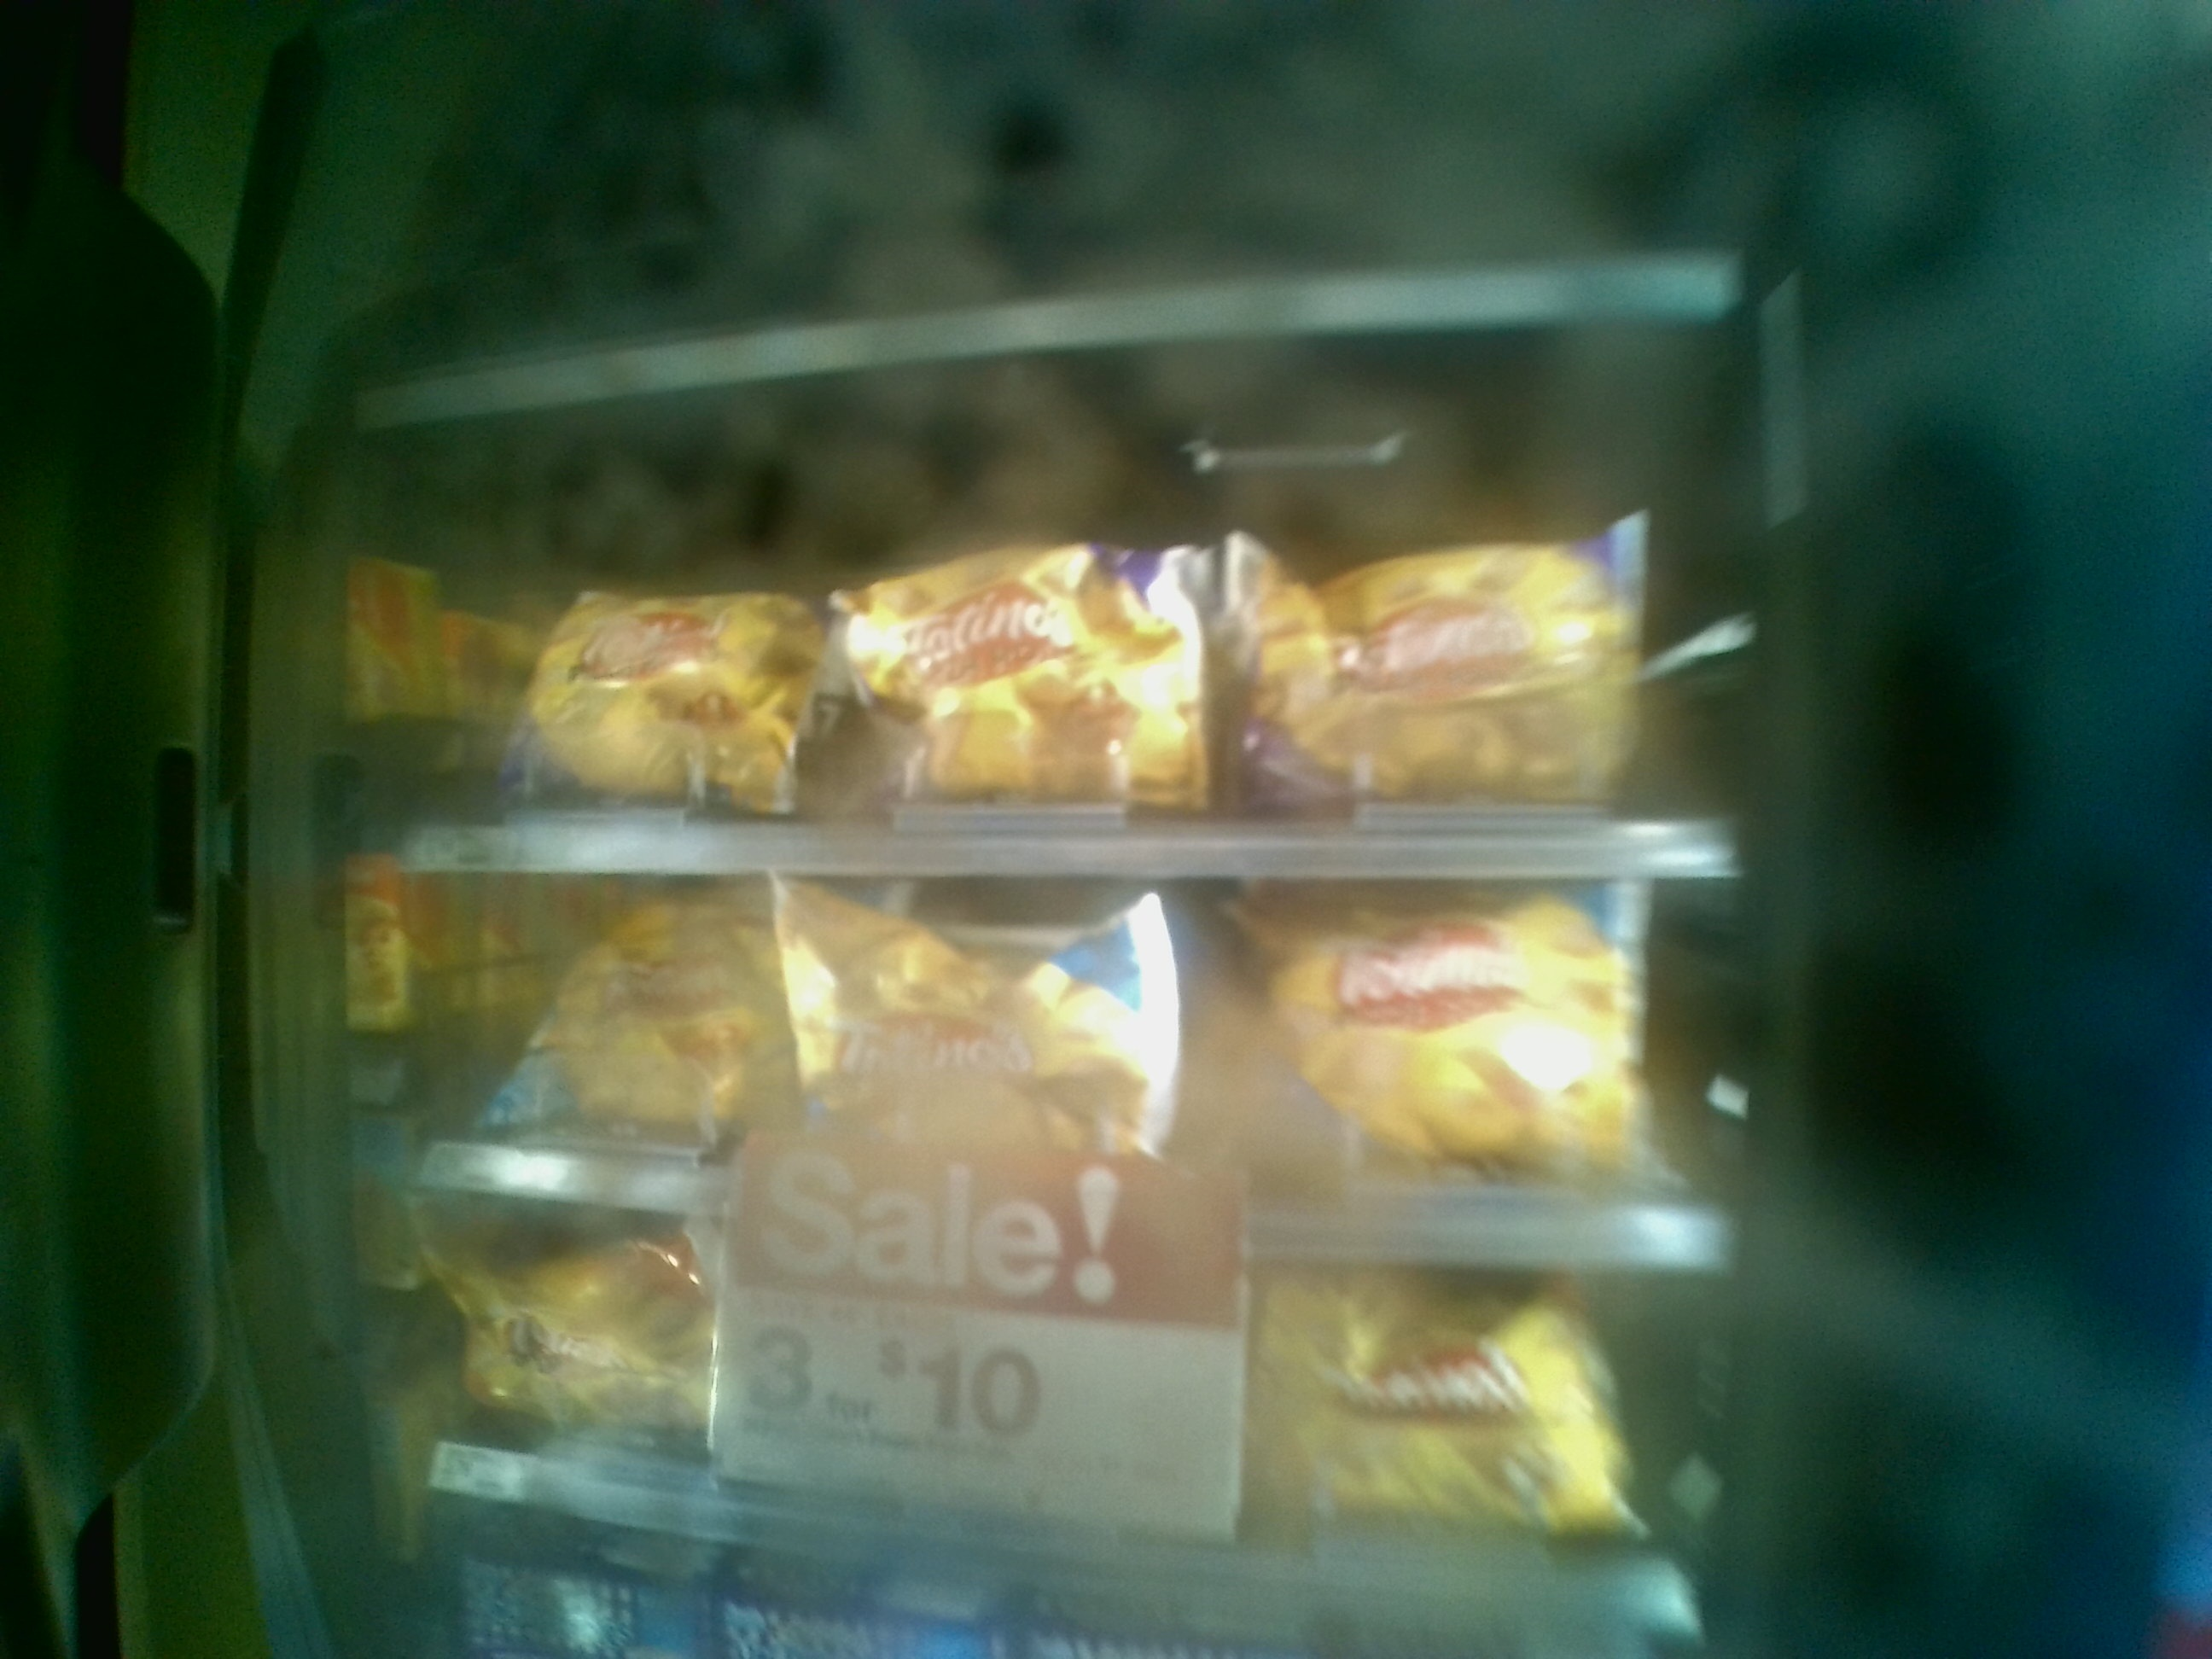shelf: (324, 1187, 1695, 1607), (333, 453, 1743, 854), (345, 849, 1716, 1244)
